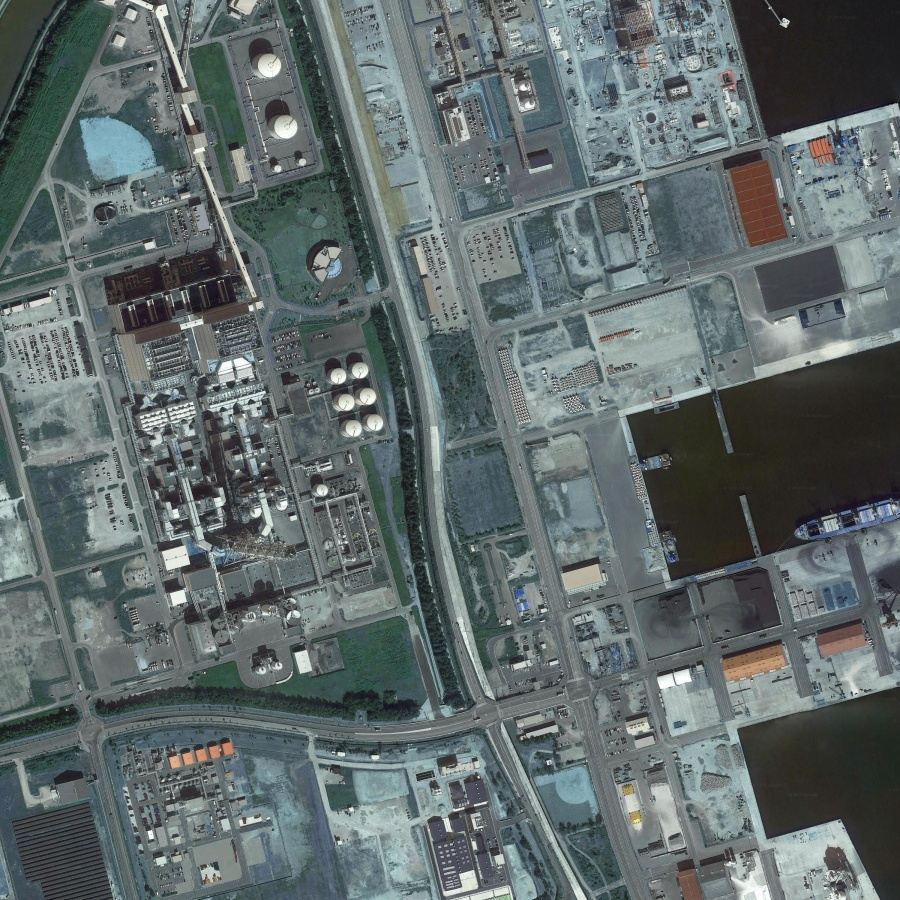PowerPlant: (115, 288, 395, 678)
